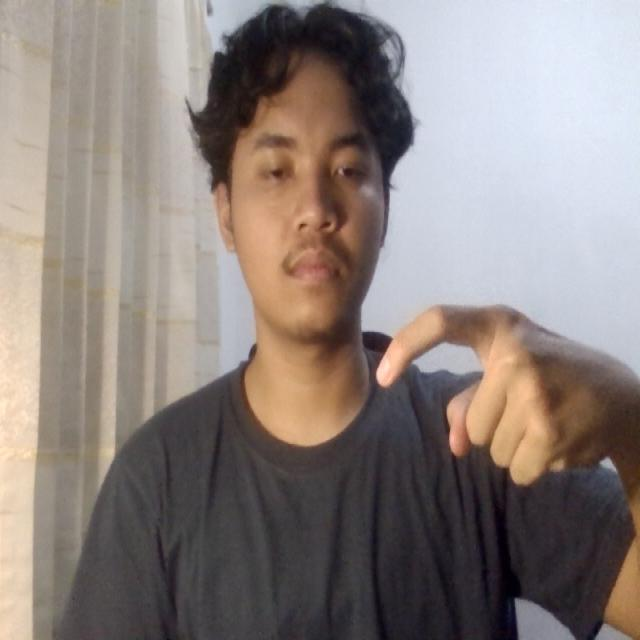N: (345, 271, 618, 497)
